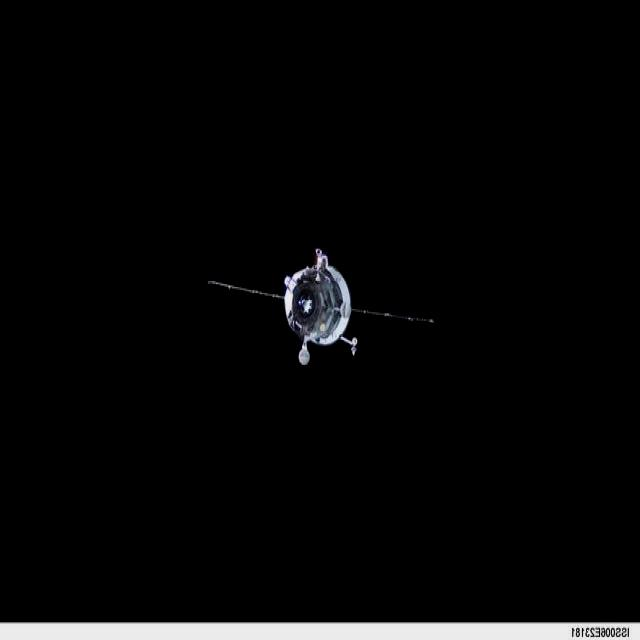satellite: (209, 248, 435, 365)
